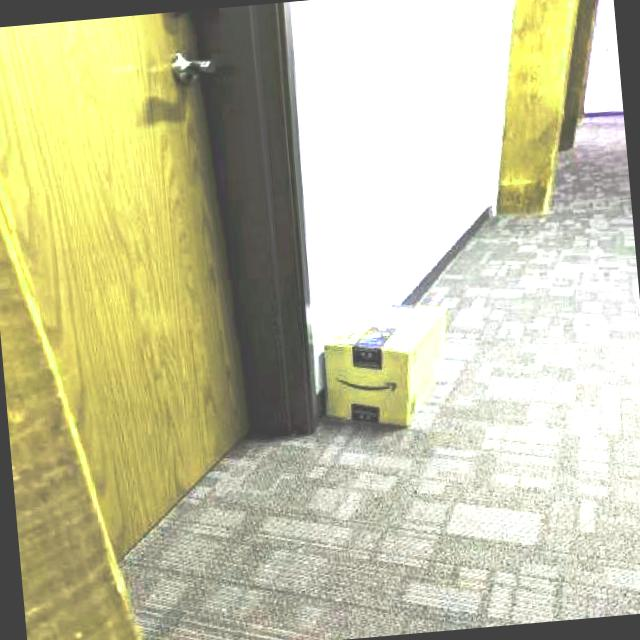Box: (312, 290, 464, 436)
